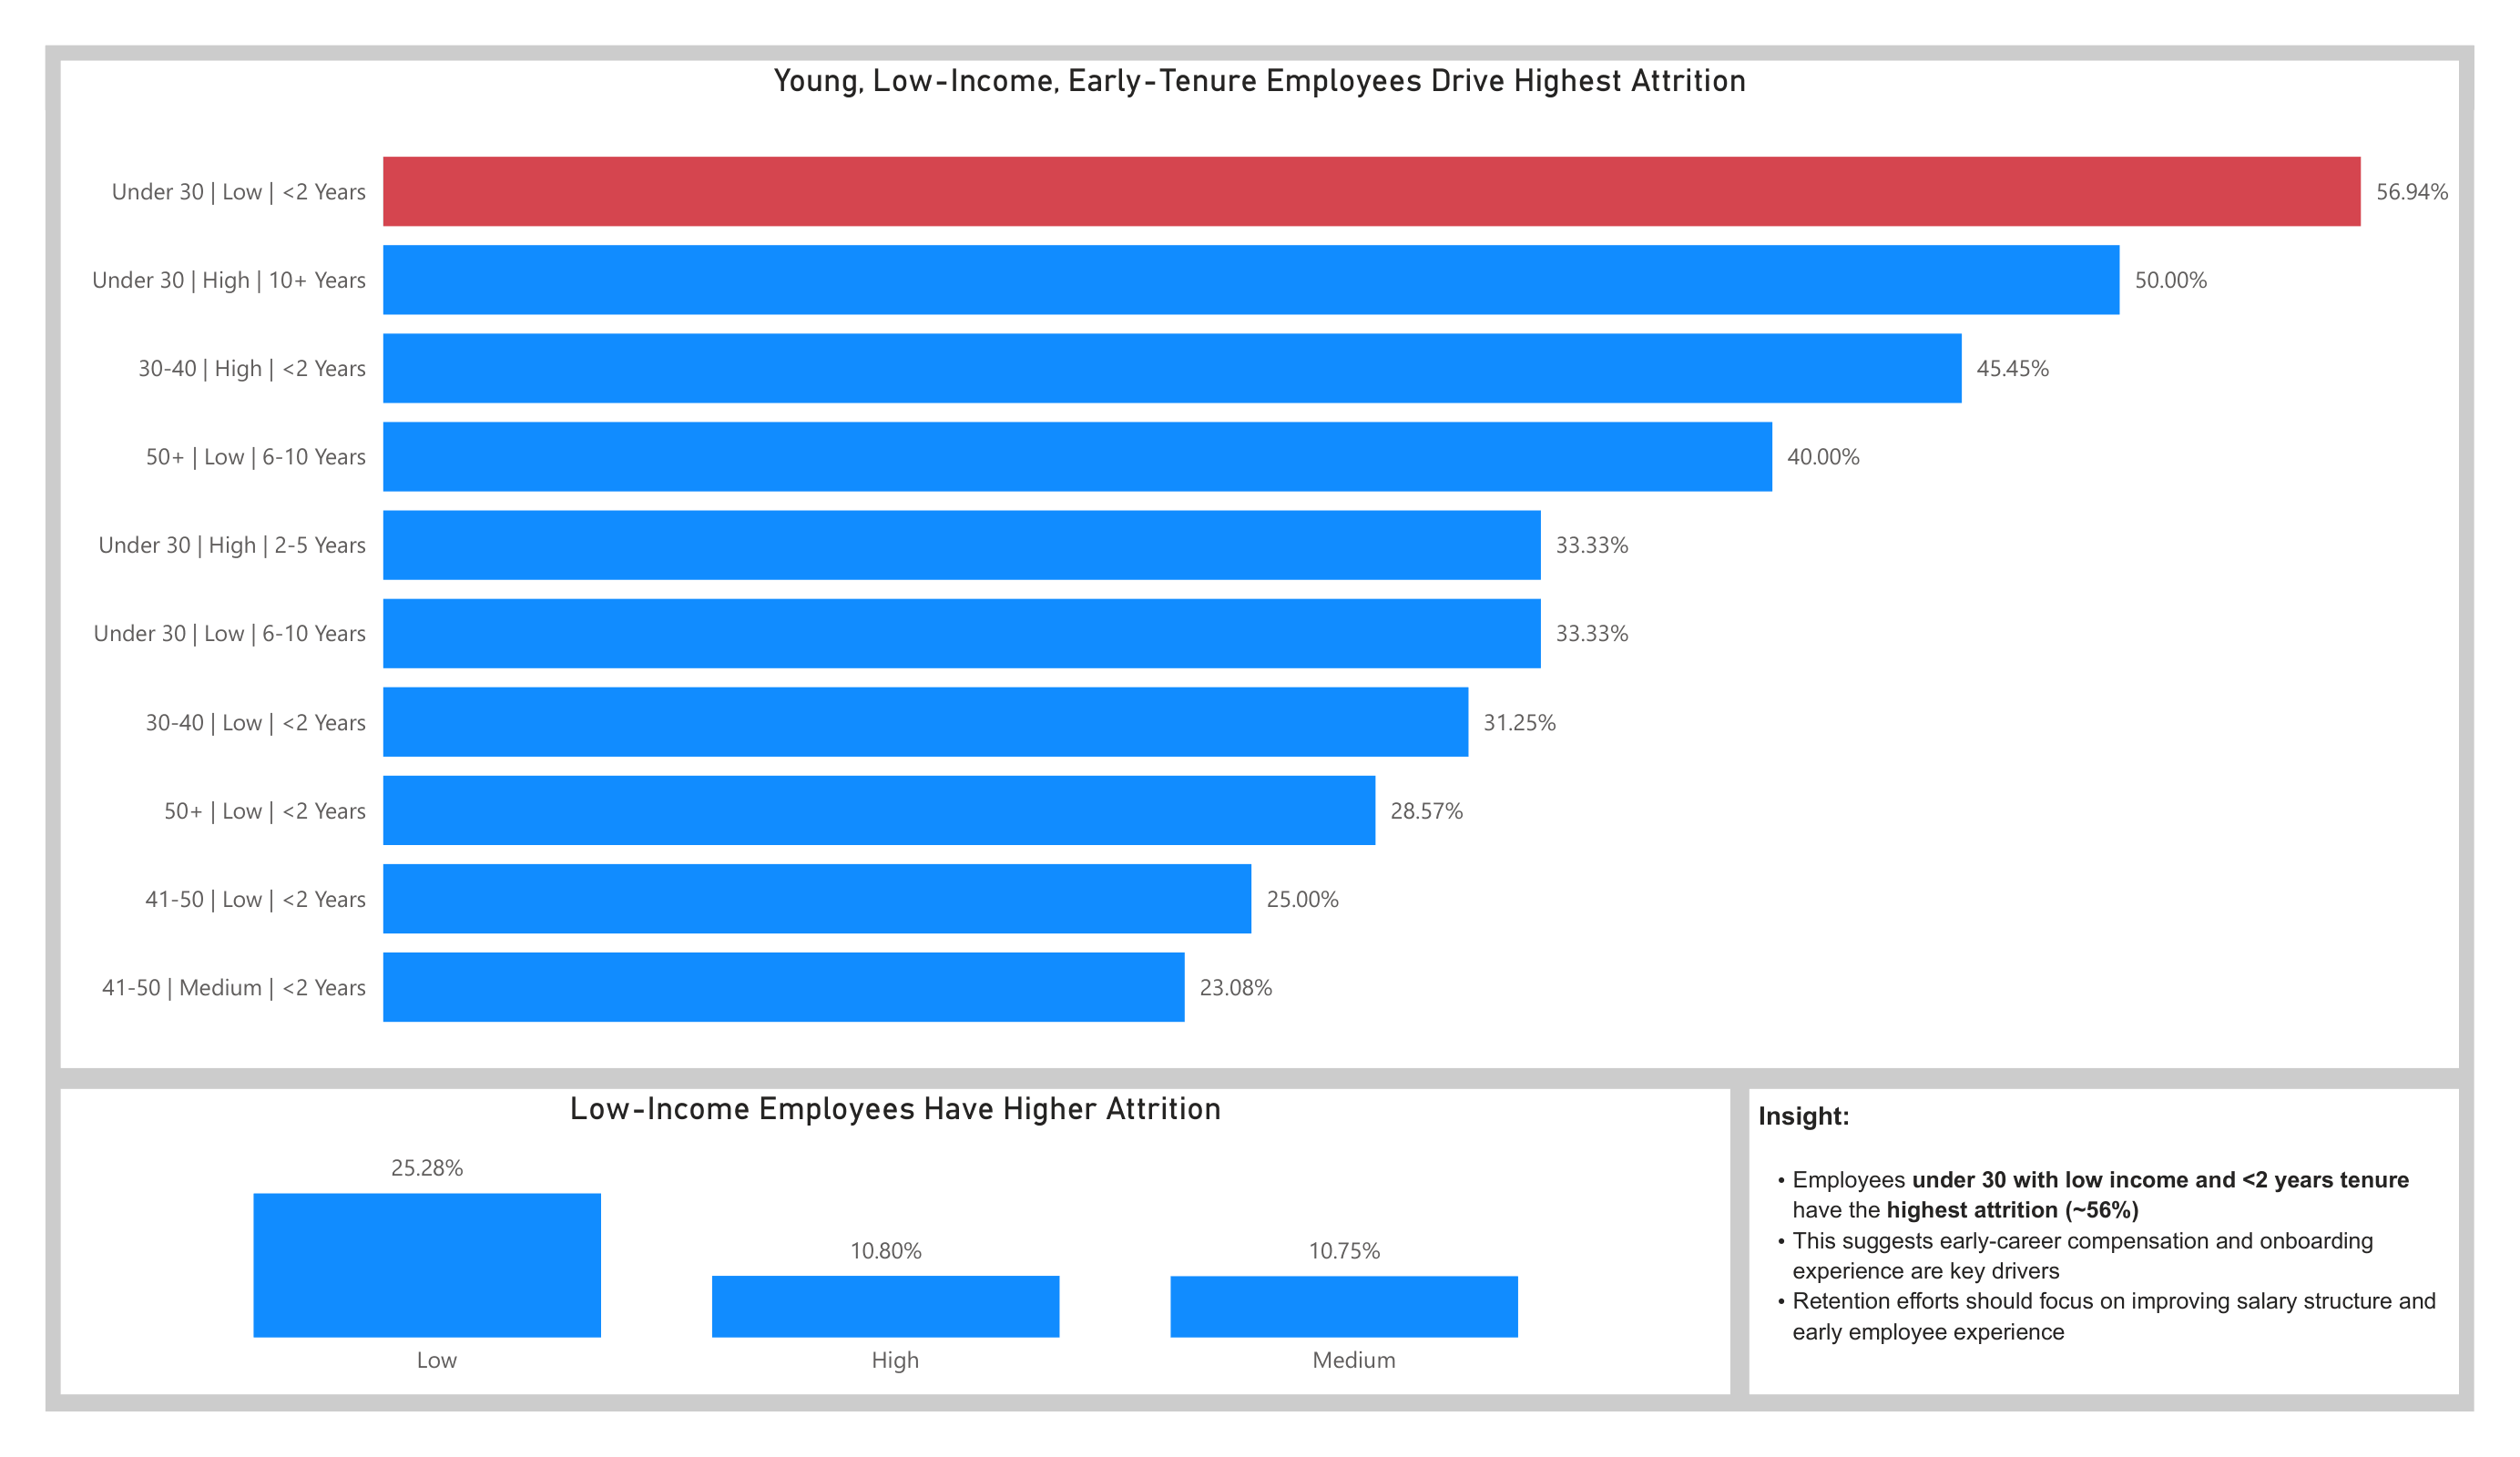

This screenshot's page, from the dashboard's own definition file:
{"tool":"powerbi","page":{"name":"Who is Leaving","canvas":[1280,720],"ordinal":1},"visuals":[{"type":"clusteredBarChart","title":"Young, Low-Income, Early-Tenure Employees Drive Highest Attrition","fields":{"Category":["HR_Data1.Segment"],"Y":["HR_Data1.Attrition Rate"]},"box":[8.2,8.2,1263.6,530.9],"z":0},{"type":"clusteredColumnChart","title":"Low-Income Employees Have Higher Attrition","fields":{"Y":["HR_Data1.Attrition Rate"],"Category":["HR_Data1.Income_Group"]},"box":[8.2,550,880,160.9],"z":1000},{"type":"textbox","box":[898.2,550,373.6,160.9],"z":2000}]}

Visuals, with their boxes on the page's 1280x720 design canvas (x1, y1, x2, y2). These are canvas units, not pixel positions in the 2520x1457 screenshot, which may show the page scaled, cropped or inside an application window:
"Young, Low-Income, Early-Tenure Employees Drive Highest Attrition" clusteredBarChart: Rect(8, 8, 1272, 539)
"Low-Income Employees Have Higher Attrition" clusteredColumnChart: Rect(8, 550, 888, 711)
textbox: Rect(898, 550, 1272, 711)
